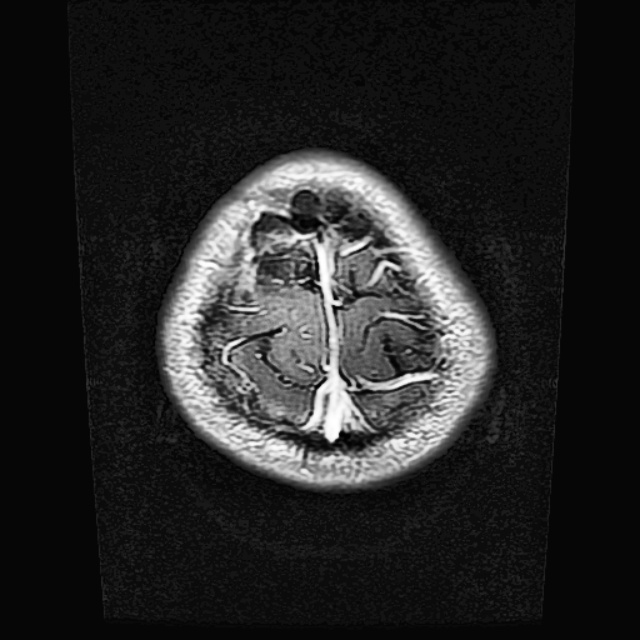Glioma: (250, 189, 379, 292)
